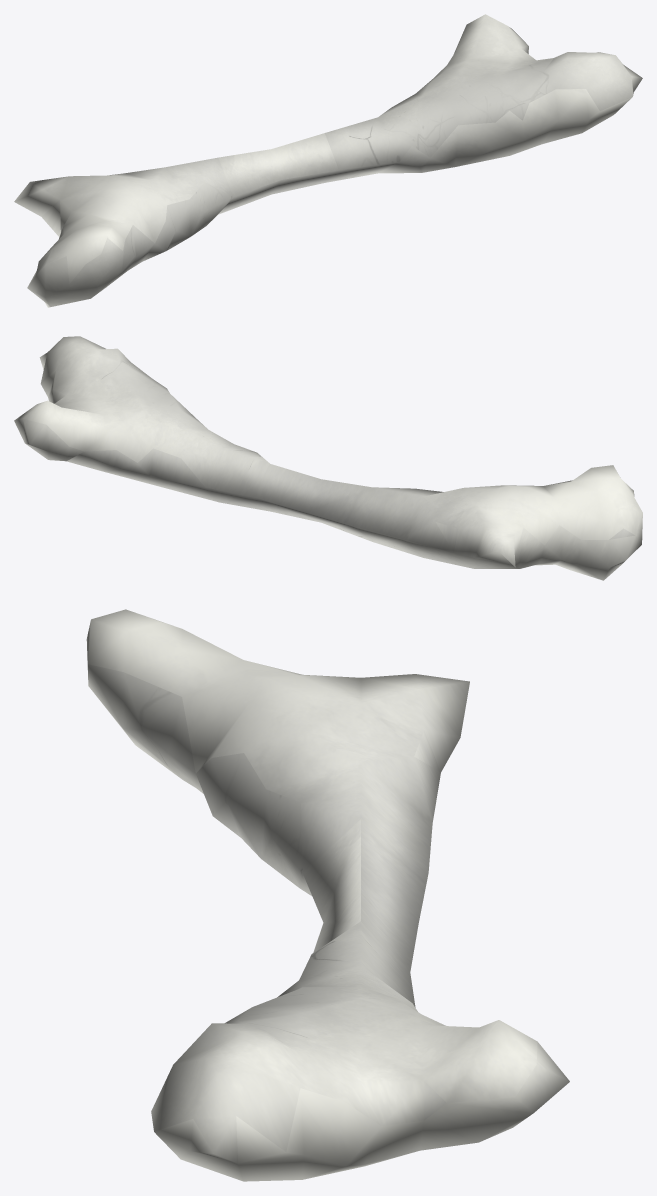
The model's file is MOD_Misc_Femur01.fbx.
3 views of the same model, one above another, from view 1: azimuth 30°, elevation 25°; view 2: azimuth 150°, elevation 25°; view 3: azimuth 270°, elevation 25° (orthographic). The views are drawn at different scales.
Visible parts, largest first — view 1: Femur; view 2: Femur; view 3: Femur.
Boxes of the visible parts, <box> form: Femur: <box>14,14,642,307</box>; Femur: <box>14,336,642,580</box>; Femur: <box>86,609,569,1181</box>.
Bounding box in the file's own units: 2.8 × 0.5117 × 0.9976.
